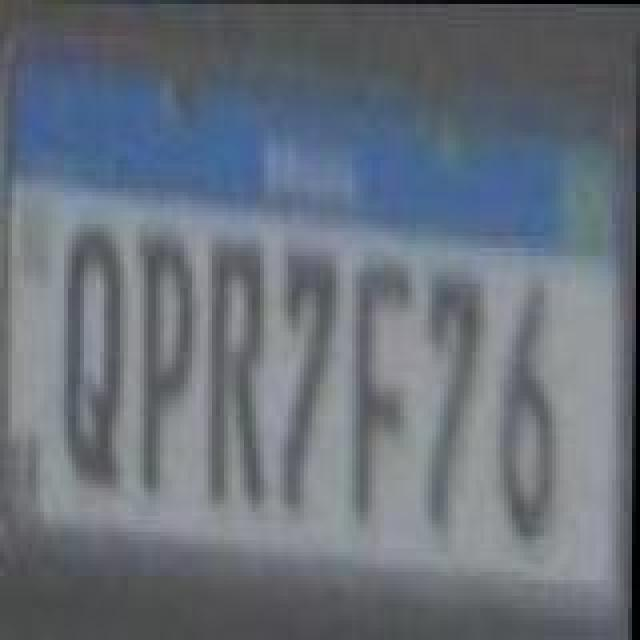6: (494, 272, 562, 552)
7: (276, 242, 340, 514), (422, 276, 490, 528)
F: (346, 250, 414, 522)
P: (128, 220, 200, 492)
Q: (60, 212, 132, 492)
R: (200, 234, 272, 506)
